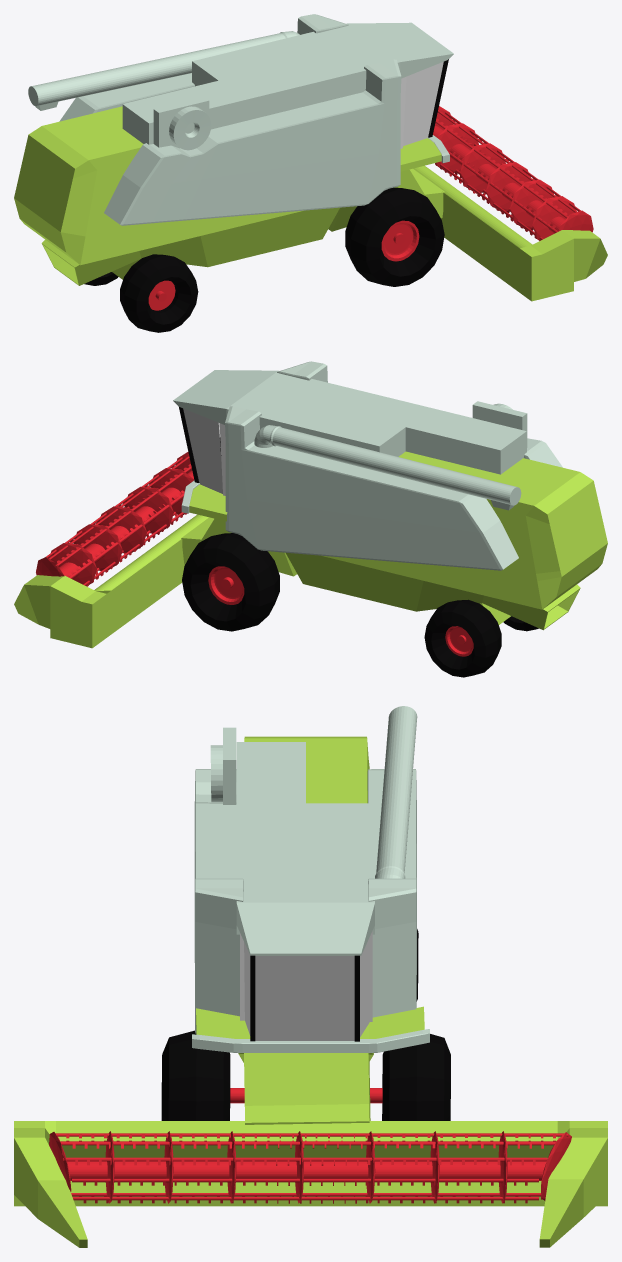
File: low Poly combine.fbx
3 renders of one model, top to bottom at view 1: azimuth 30°, elevation 25°; view 2: azimuth 150°, elevation 25°; view 3: azimuth 270°, elevation 25°, orthographic. The views are drawn at different scales.
Parts seen in each view (by area): view 1: main body, chassis, roof and tank doors, header main part, front left tyre, feeder arm, back left tyre, glass left side, feeder cylinder, fan, fan background, wheel cap front left (+12 smaller); view 2: main body, chassis, roof and tank doors, header main part, front right tyre.001, feeder arm, back right tyre, glass right side, feeder cylinder, fan background, Icosphere.002, Icosphere.004 (+10 smaller); view 3: header main part, roof and tank doors, main body, chassis, windshield, feeder cylinder.001, front left tyre, front right tyre.001, feeder arm, front bevel, tynes 1.001, tynes 1.003 (+8 smaller).
Part boxes in pixels (x1,y1,x2,y2): main body: (59, 14, 401, 225); chassis: (14, 106, 445, 285); roof and tank doors: (122, 22, 453, 144); header main part: (441, 192, 607, 301); front left tyre: (345, 187, 444, 286); feeder arm: (28, 31, 299, 110); back left tyre: (120, 254, 198, 332); glass left side: (403, 62, 443, 145); feeder cylinder: (413, 165, 532, 248); fan: (169, 106, 211, 150); fan background: (153, 97, 209, 148); wheel cap front left: (381, 220, 419, 261); main body: (225, 361, 562, 570); chassis: (181, 451, 607, 630); roof and tank doors: (173, 370, 526, 474); header main part: (14, 539, 184, 648); front right tyre.001: (182, 533, 279, 631); feeder arm: (254, 425, 521, 510); back right tyre: (424, 599, 501, 677); glass right side: (183, 408, 222, 493); feeder cylinder: (94, 514, 208, 590); fan background: (472, 401, 527, 447); Icosphere.002: (124, 486, 173, 533); Icosphere.004: (73, 524, 122, 570); header main part: (14, 1121, 607, 1247); roof and tank doors: (236, 742, 374, 955); main body: (194, 769, 416, 1033); chassis: (196, 736, 424, 1124); windshield: (255, 956, 354, 1040); feeder cylinder.001: (67, 1161, 546, 1180); front left tyre: (161, 1030, 230, 1120); front right tyre.001: (382, 1034, 450, 1120); feeder arm: (375, 706, 417, 878); front bevel: (192, 1029, 429, 1052); tynes 1.001: (63, 1157, 547, 1165); tynes 1.003: (60, 1141, 555, 1148).
Bounding box in the file's own units: 2280 × 981 × 1849.
